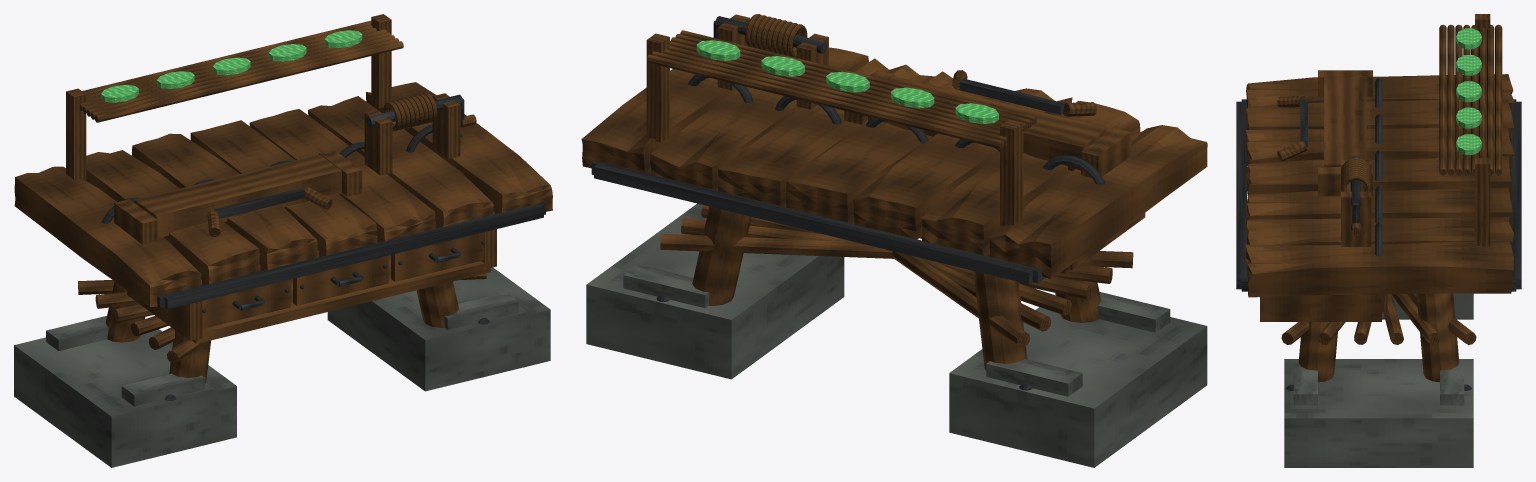
File: underworld-station-mycelial-bench.glb
The picture shows the model from 3 angles, left to right: view 1: azimuth 30°, elevation 25°; view 2: azimuth 150°, elevation 25°; view 3: azimuth 270°, elevation 25°; orthographic projection. The views are drawn at different scales.
Visible parts, largest first — view 1: understone-foot--1, understone-foot-1, worktop-slat-0, worktop-slat-5, worktop-slat-2, planing-billet, worktop-slat-1, worktop-slat-4, worktop-slat-3, worktop-collar-front, worktop-slat-6, bench-drawers-rail--1 (+30 smaller); view 2: understone-foot--1, understone-foot-1, worktop-slat-0, worktop-collar-back, worktop-slat-2, worktop-slat-5, worktop-slat-4, worktop-slat-3, worktop-slat-1, worktop-slat-6, under-brace-0, planing-billet (+31 smaller); view 3: understone-foot-1, worktop-slat-6, worktop-slat-4, worktop-slat-5, worktop-slat-3, worktop-slat-2, worktop-slat-1, worktop-slat-0, planing-billet, bench-drawers-side-1, root-leg-1-1, worktop-collar-front (+31 smaller).
Boxes of the visible parts, x1,y1,x2,y2 form: understone-foot--1: (14, 329, 236, 467); understone-foot-1: (327, 267, 550, 391); worktop-slat-0: (14, 166, 201, 307); worktop-slat-5: (308, 96, 493, 228); worktop-slat-2: (131, 133, 317, 271); planing-billet: (134, 154, 341, 237); worktop-slat-1: (85, 150, 259, 285); worktop-slat-4: (249, 109, 435, 242); worktop-slat-3: (190, 120, 376, 256); worktop-collar-front: (162, 205, 543, 309); worktop-slat-6: (366, 82, 552, 213); bench-drawers-rail--1: (192, 255, 490, 343); understone-foot--1: (949, 307, 1207, 467); understone-foot-1: (586, 203, 844, 379); worktop-slat-0: (987, 125, 1207, 278); worktop-collar-back: (594, 162, 1035, 284); worktop-slat-2: (852, 88, 1072, 239); worktop-slat-5: (650, 47, 868, 190); worktop-slat-4: (718, 58, 934, 207); worktop-slat-3: (785, 71, 994, 223); worktop-slat-1: (920, 100, 1140, 256); worktop-slat-6: (581, 69, 737, 174); under-brace-0: (660, 233, 1133, 268); planing-billet: (868, 76, 1107, 170); understone-foot-1: (1284, 359, 1473, 467); worktop-slat-6: (1245, 241, 1513, 297); worktop-slat-4: (1246, 187, 1512, 228); worktop-slat-5: (1245, 217, 1513, 247); worktop-slat-3: (1245, 156, 1512, 202); worktop-slat-2: (1246, 126, 1514, 175); worktop-slat-1: (1246, 99, 1513, 144); worktop-slat-0: (1246, 74, 1514, 110); planing-billet: (1324, 77, 1366, 166); bench-drawers-side-1: (1260, 294, 1381, 320); root-leg-1-1: (1416, 293, 1459, 382); worktop-collar-front: (1236, 101, 1246, 289).
Bounding box in the file's own units: 3.22 × 1.99 × 1.87.
4 materials, 4 textured.
